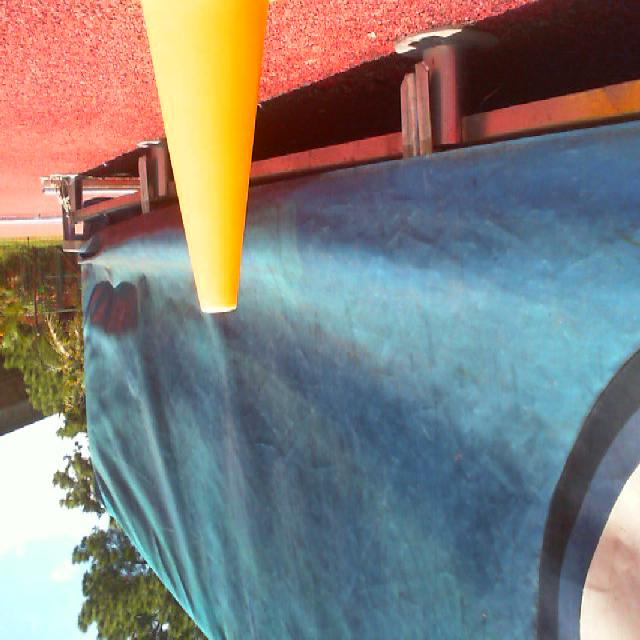cone: (140, 0, 276, 314)
